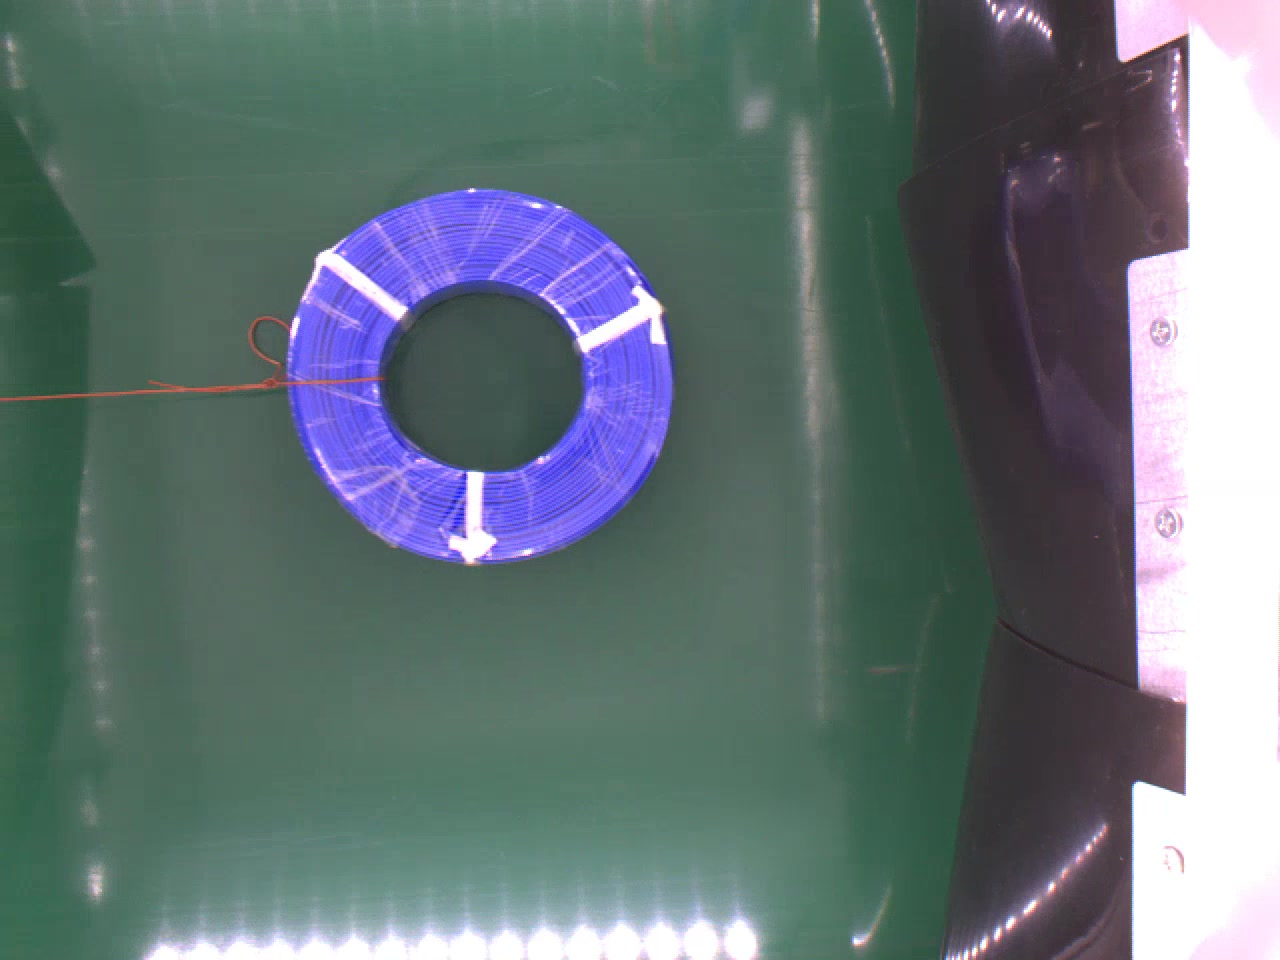blue: (281, 186, 672, 564)
